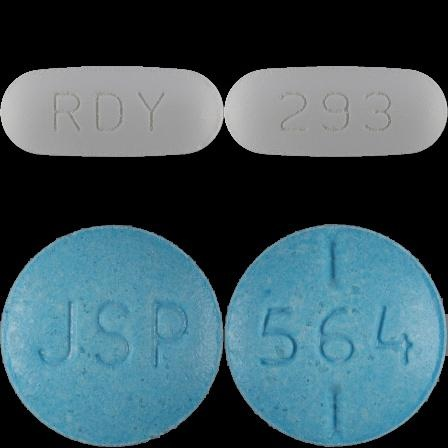63187-607: (0, 0, 224, 224)
